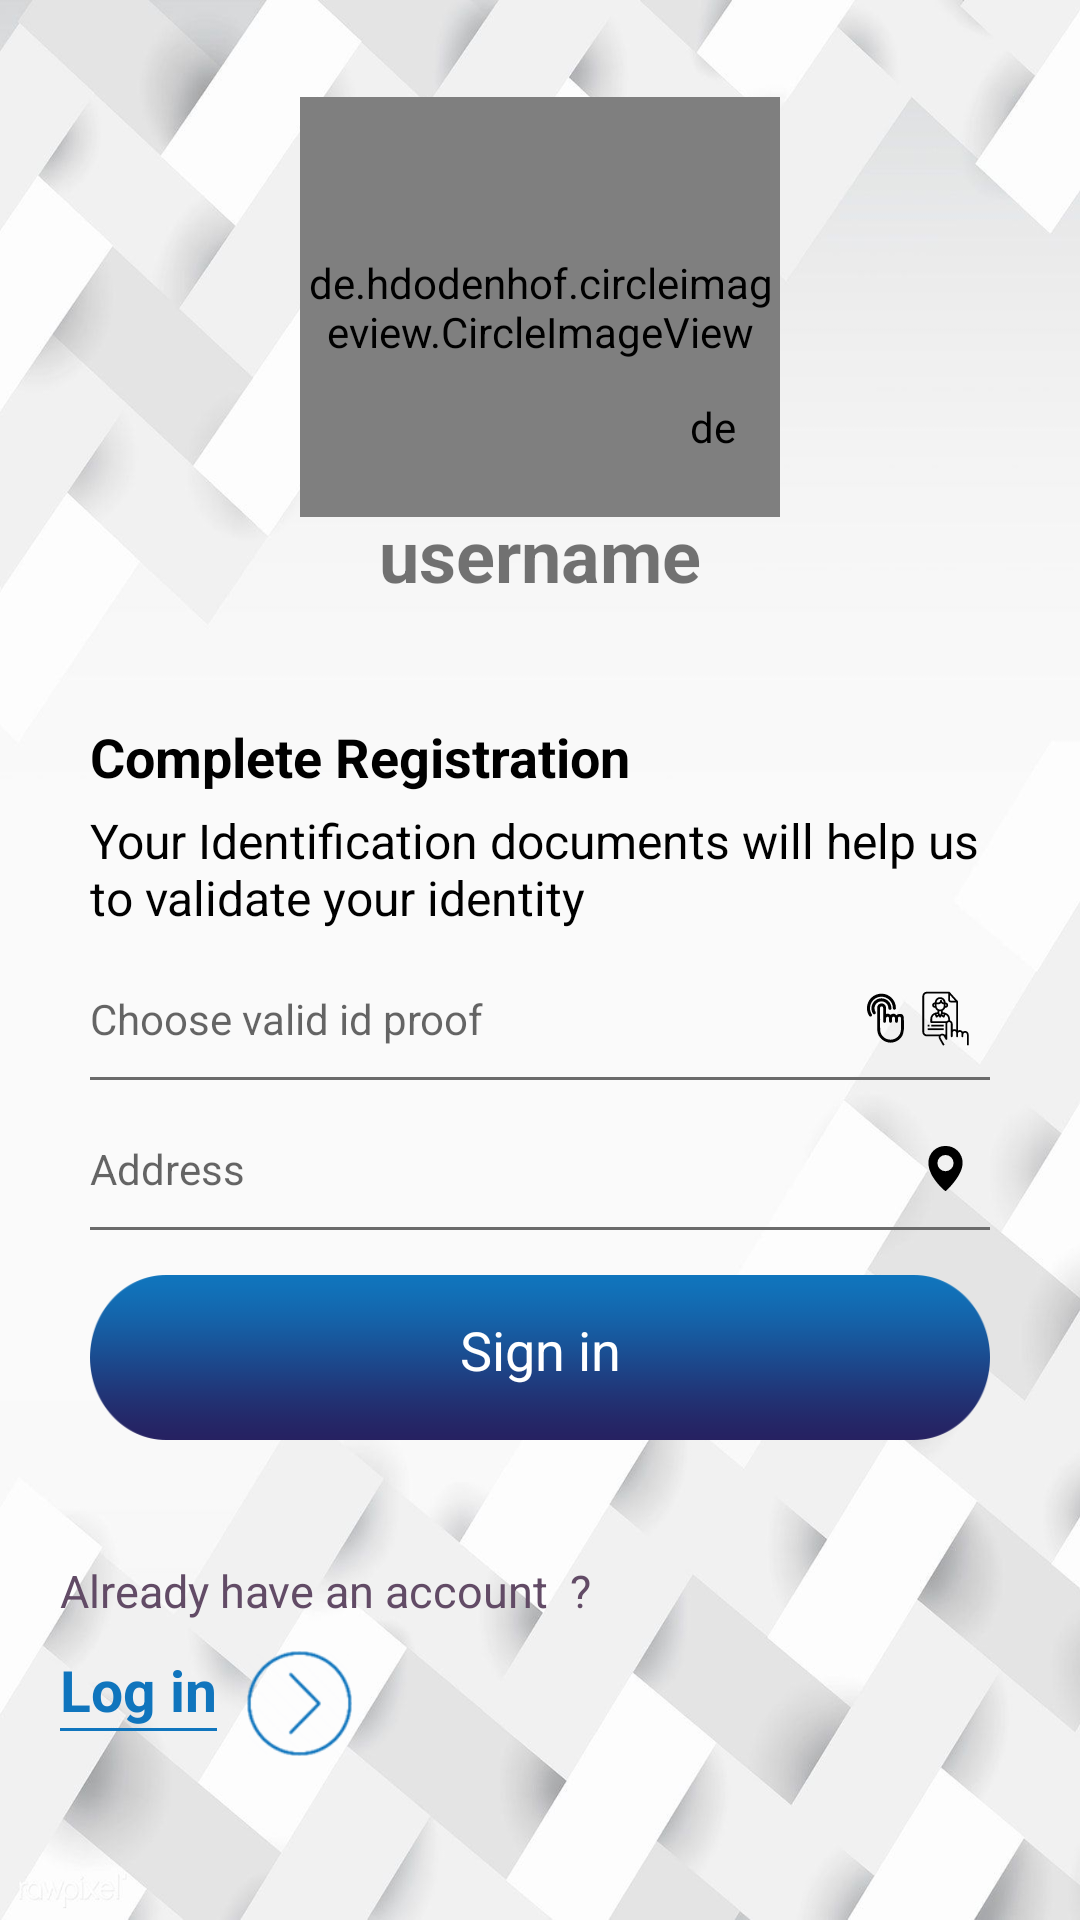

Named icons in this screenshot (1080px×1920px) and their bounding boxes, box(x1, y1, x2, y2):
arrow: box(247, 1651, 352, 1756)
